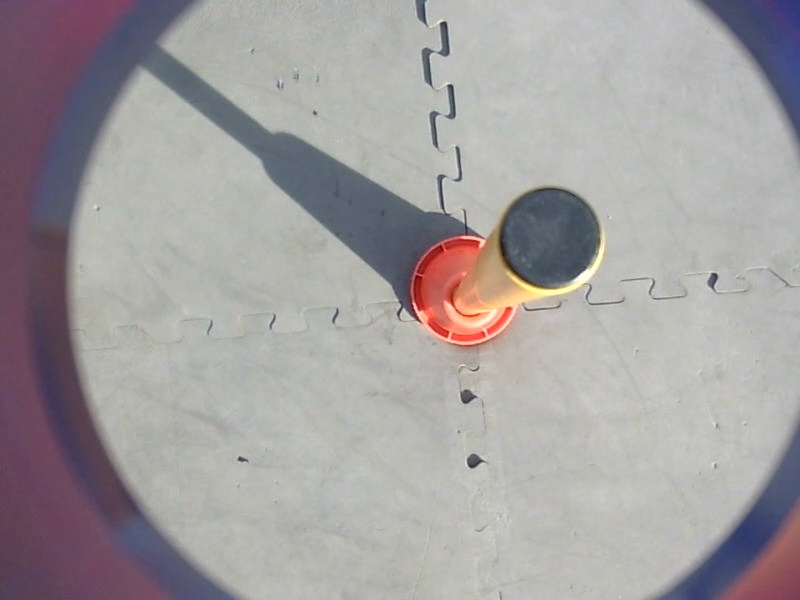tip: (490, 180, 611, 300)
